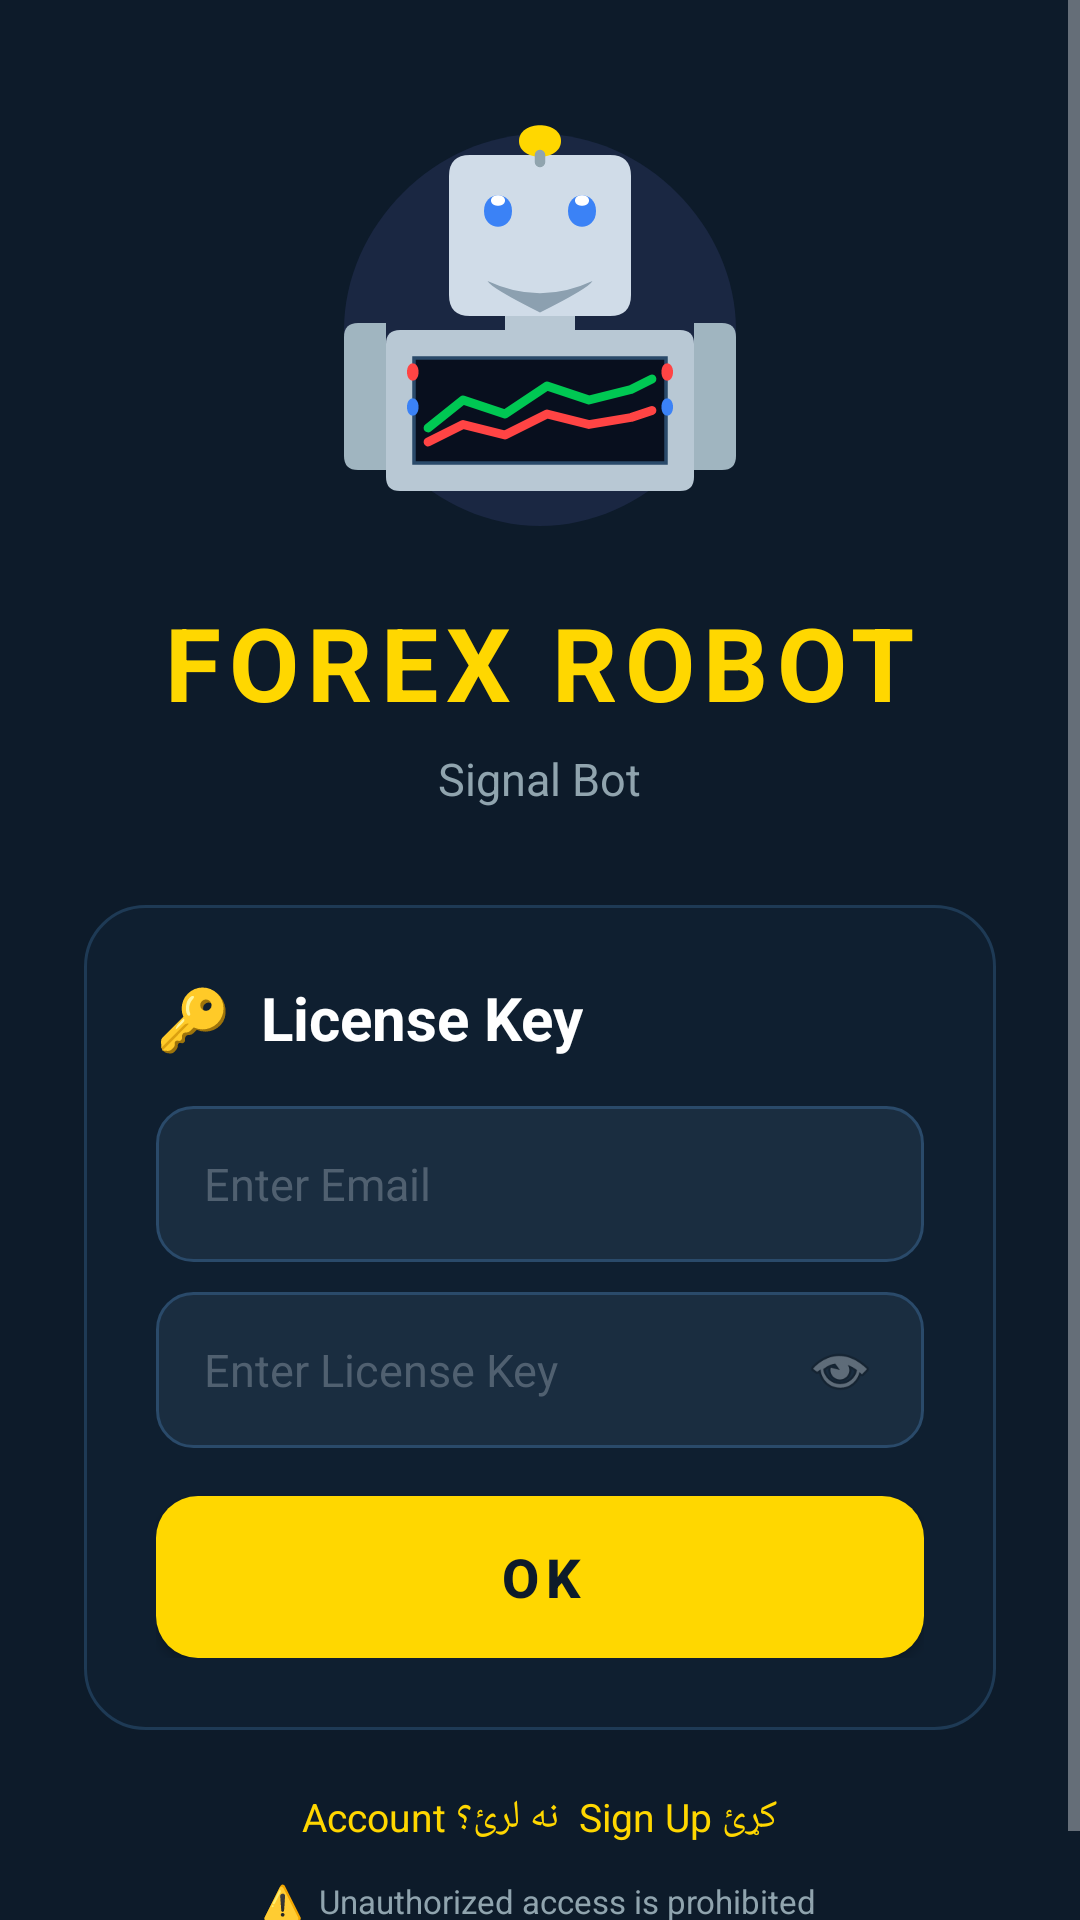

Named icons in this screenshot (1080w x 1920h) and their centers, point (x, y):
view: point (840, 1372)
